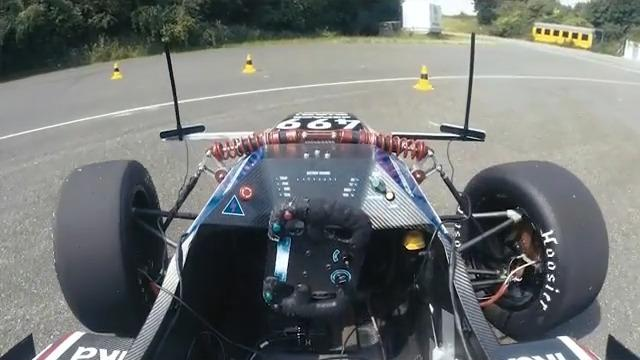yellow_cone: (413, 65, 434, 91), (242, 54, 256, 73), (110, 62, 123, 81)
